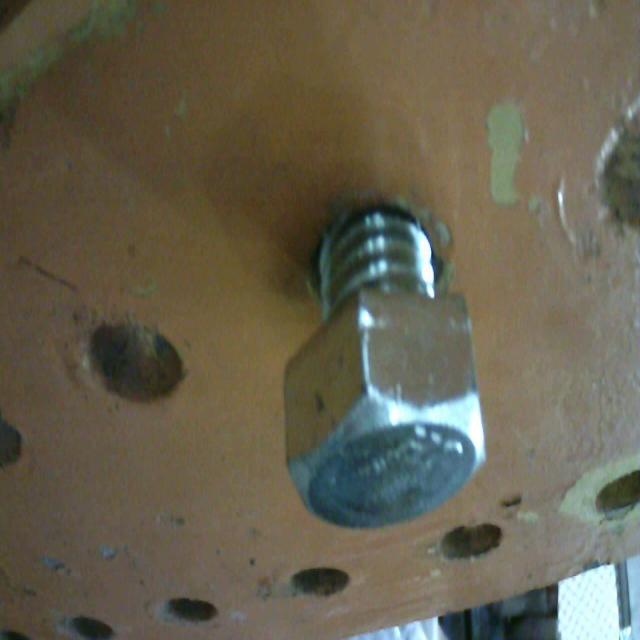Loose bolt: (286, 204, 489, 534)
Missing bolt: (87, 312, 190, 407), (290, 561, 351, 605), (441, 520, 507, 560), (595, 471, 640, 521), (162, 592, 219, 631), (70, 608, 114, 640), (1, 414, 25, 469)
Regular bolt: (282, 216, 489, 537)
